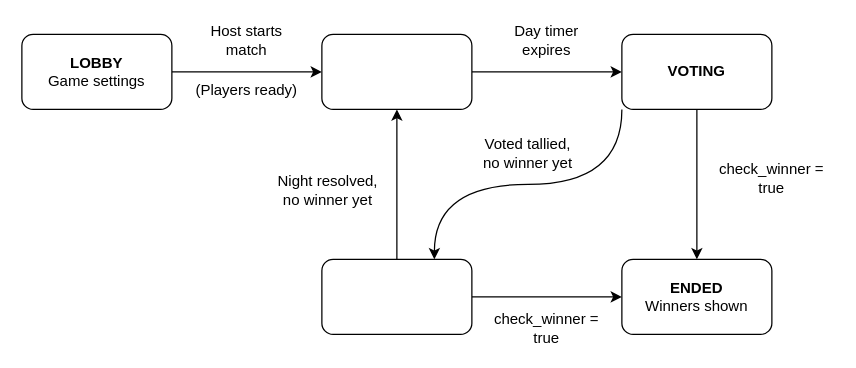
Some shapes in this 856 by 368 pixel diagram are drawn without their labels. The shapes that lost their labels are listed below. From the top down, each one's box as (x1, y1, x2, y2) in pixels, then its label:
(321, 33, 472, 109): DAY Discussion / Chat
(321, 258, 472, 334): NIGHT Wolf / Seer action
